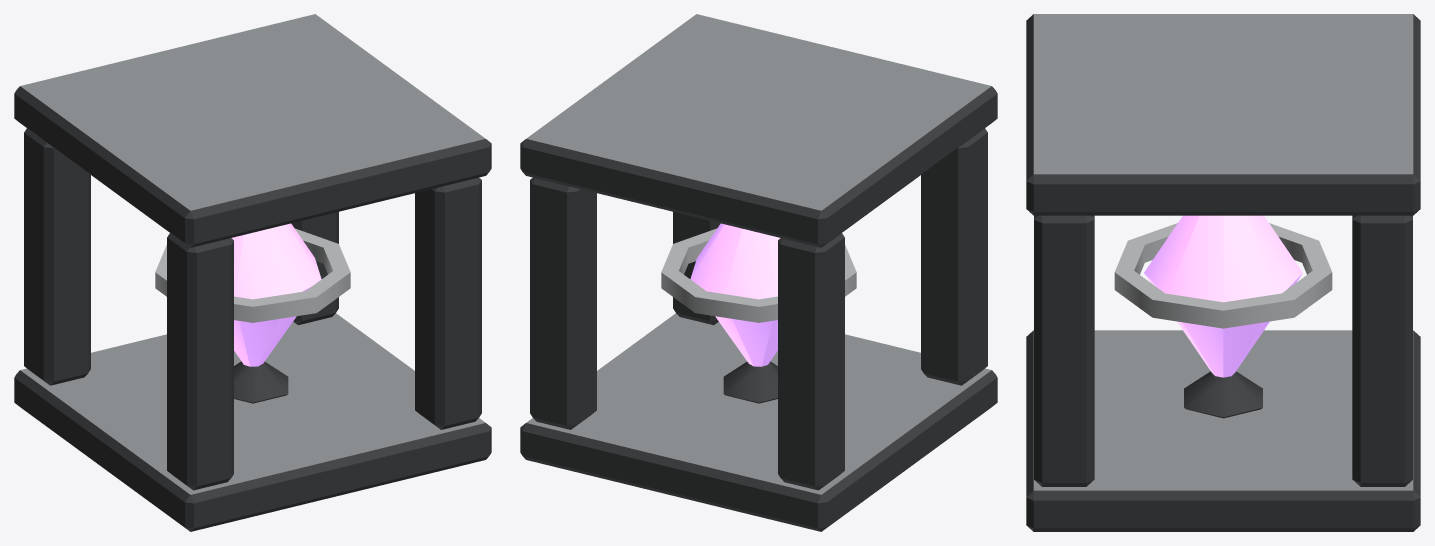
File: R4X_CoreBooster_LOD1.fbx
3 renders of one model, left to right at view 1: azimuth 30°, elevation 25°; view 2: azimuth 150°, elevation 25°; view 3: azimuth 270°, elevation 25°, orthographic. The views are drawn at different scales.
Parts seen in each view (by area): view 1: R4X_CoreBooster_LOD1; view 2: R4X_CoreBooster_LOD1; view 3: R4X_CoreBooster_LOD1.
Part boxes in pixels (x1,y1,x2,y2): R4X_CoreBooster_LOD1: (14, 14, 491, 531); R4X_CoreBooster_LOD1: (520, 14, 997, 531); R4X_CoreBooster_LOD1: (1026, 14, 1420, 531).
Bounding box in the file's own units: 0.52 × 0.52 × 0.52.
